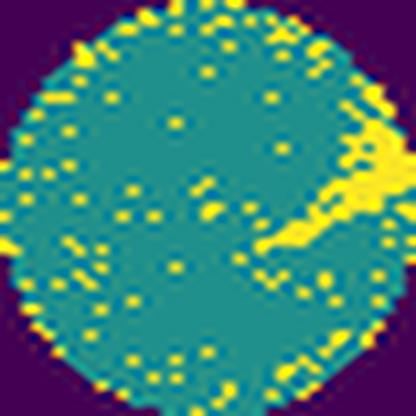Loc: (252, 104, 416, 255)
